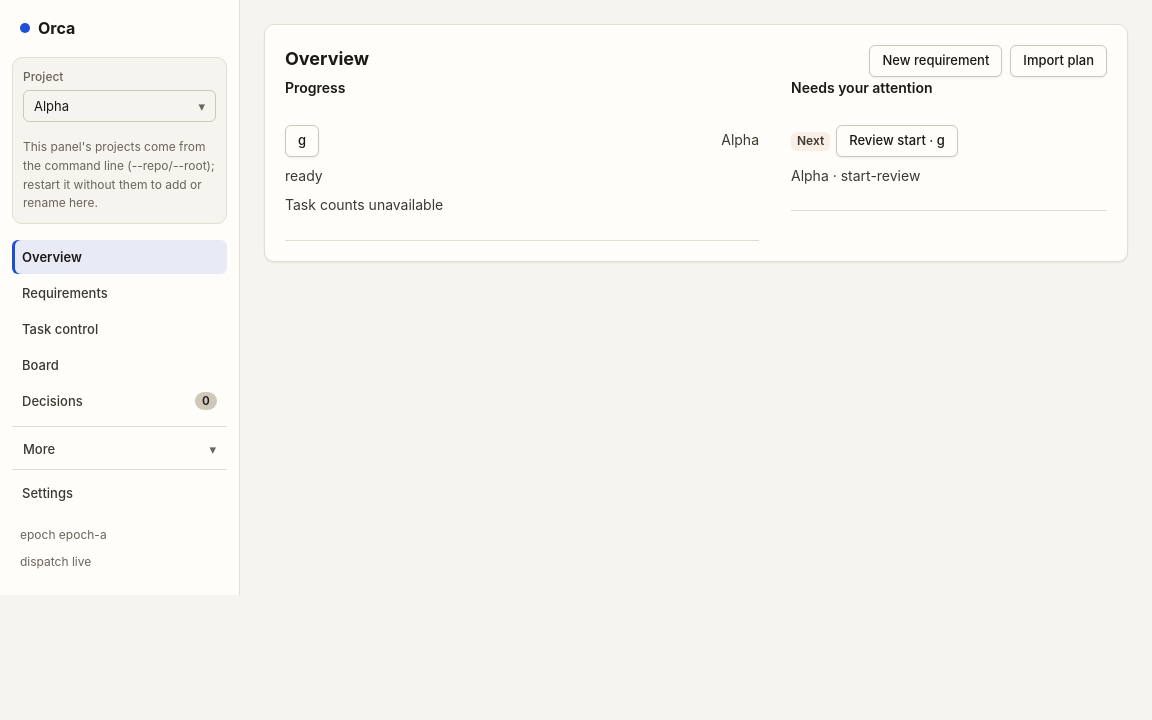
Test: Overview start opens its distinct owner region without commands
The width and height of the screenshot is (1152, 720).
Step 1. Click the button "Review start · g" → coordinates (897, 141), box [836, 125, 958, 157]
(page scrolled)
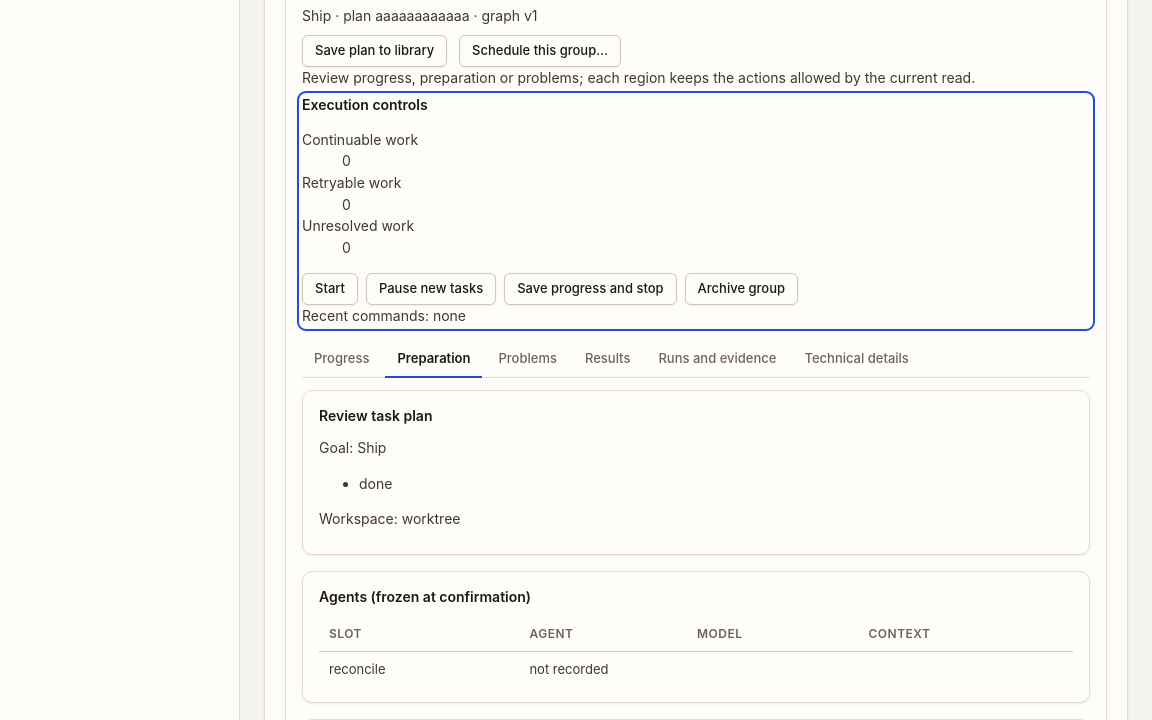
Result: the tab "Preparation" is shown at [386, 342, 482, 378]
